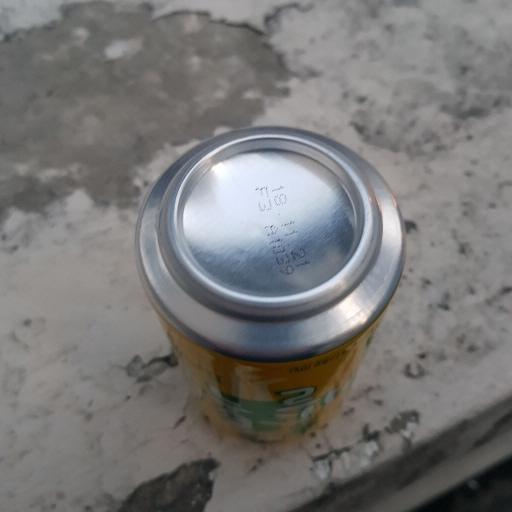Metal_0: (137, 123, 410, 439)
